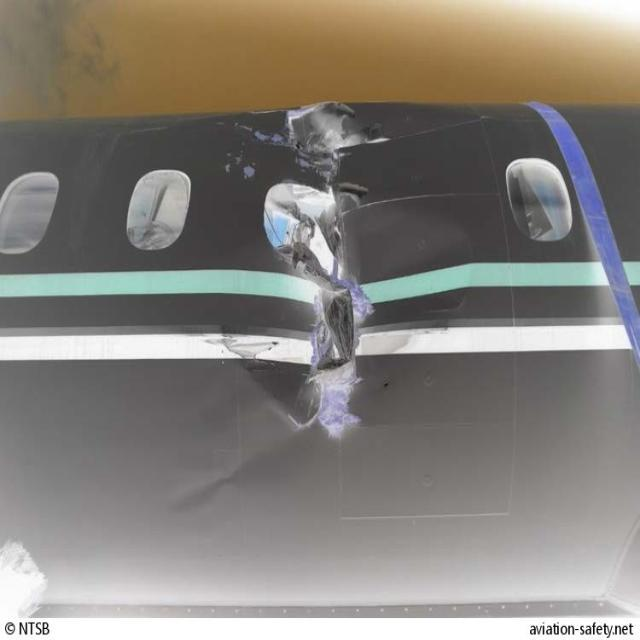crack: (230, 90, 417, 455)
dent: (159, 421, 321, 522)
